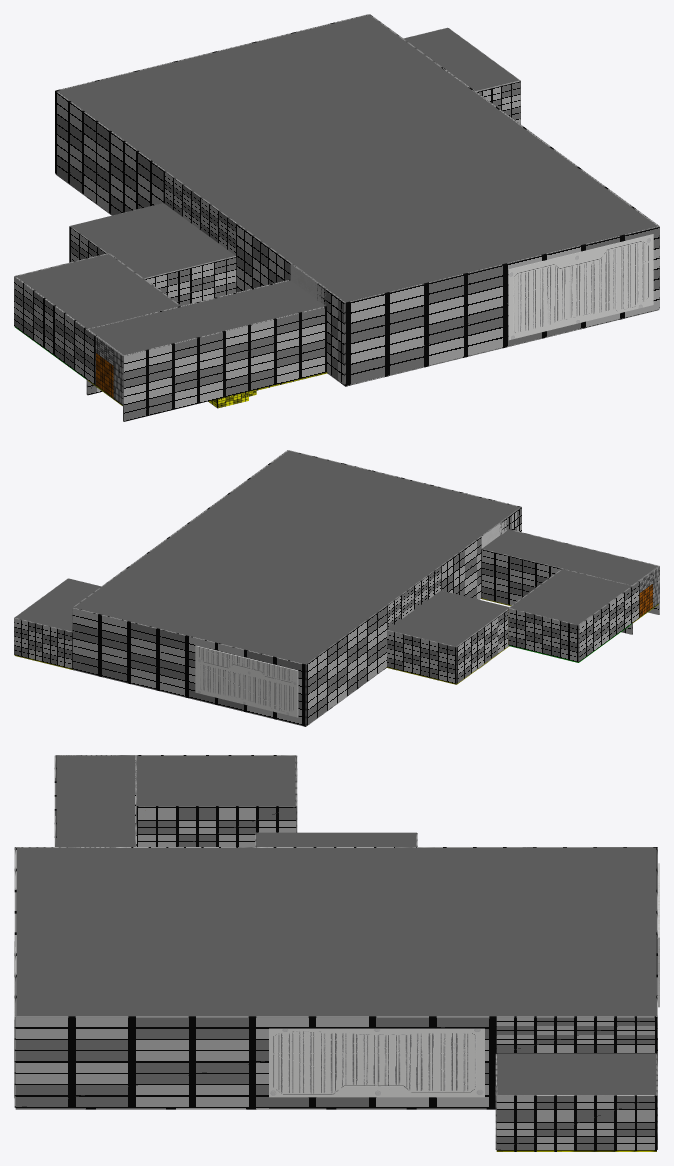
Rendered from Ventilation.fbx.
The picture shows the model from 3 angles, top to bottom: view 1: azimuth 30°, elevation 25°; view 2: azimuth 150°, elevation 25°; view 3: azimuth 270°, elevation 25°; orthographic projection. The views are drawn at different scales.
Visible parts, largest first — view 1: MainBuidling, Wall_2, Wall_15, Wall_4, Wall_18, Wall_24, Wall_6, Wall_16, Wall_10, Wall_1, Wall_8, Floor_9 (+1 smaller); view 2: MainBuidling, Wall_3, Wall_4, Wall_12, Wall_11, Wall_23, Wall_18, Wall, Wall_8, Wall_16, Wall_6, Floor_9; view 3: MainBuidling, Wall_9, Wall_17, Wall_5, Wall_22, Floor_9, Wall_2.
Boxes of the visible parts, x1,y1,x2,y2 form: MainBuidling: [16, 15, 657, 355]; Wall_2: [345, 226, 659, 385]; Wall_15: [123, 306, 326, 421]; Wall_4: [55, 91, 164, 215]; Wall_18: [14, 276, 96, 385]; Wall_24: [145, 256, 236, 305]; Wall_6: [163, 170, 236, 255]; Wall_16: [236, 223, 300, 292]; Wall_10: [317, 283, 345, 385]; Wall_1: [476, 81, 520, 123]; Wall_8: [69, 226, 106, 262]; Floor_9: [55, 174, 659, 386]; MainBuidling: [15, 450, 657, 717]; Wall_3: [72, 607, 305, 725]; Wall_4: [306, 605, 387, 725]; Wall_12: [481, 549, 590, 605]; Wall_11: [508, 608, 578, 661]; Wall_23: [387, 630, 456, 683]; Wall_18: [578, 581, 639, 661]; Wall: [14, 618, 72, 668]; Wall_8: [456, 609, 508, 683]; Wall_16: [440, 531, 487, 599]; Wall_6: [386, 566, 441, 629]; Floor_9: [73, 598, 480, 726]; MainBuidling: [14, 756, 659, 1098]; Wall_9: [15, 1016, 496, 1107]; Wall_17: [496, 1095, 656, 1150]; Wall_5: [496, 1016, 656, 1053]; Wall_22: [136, 806, 296, 846]; Floor_9: [15, 1108, 495, 1109]; Wall_2: [14, 847, 16, 1107].
Size of the model in its own units: 38.1 by 32.23 by 5.6.
